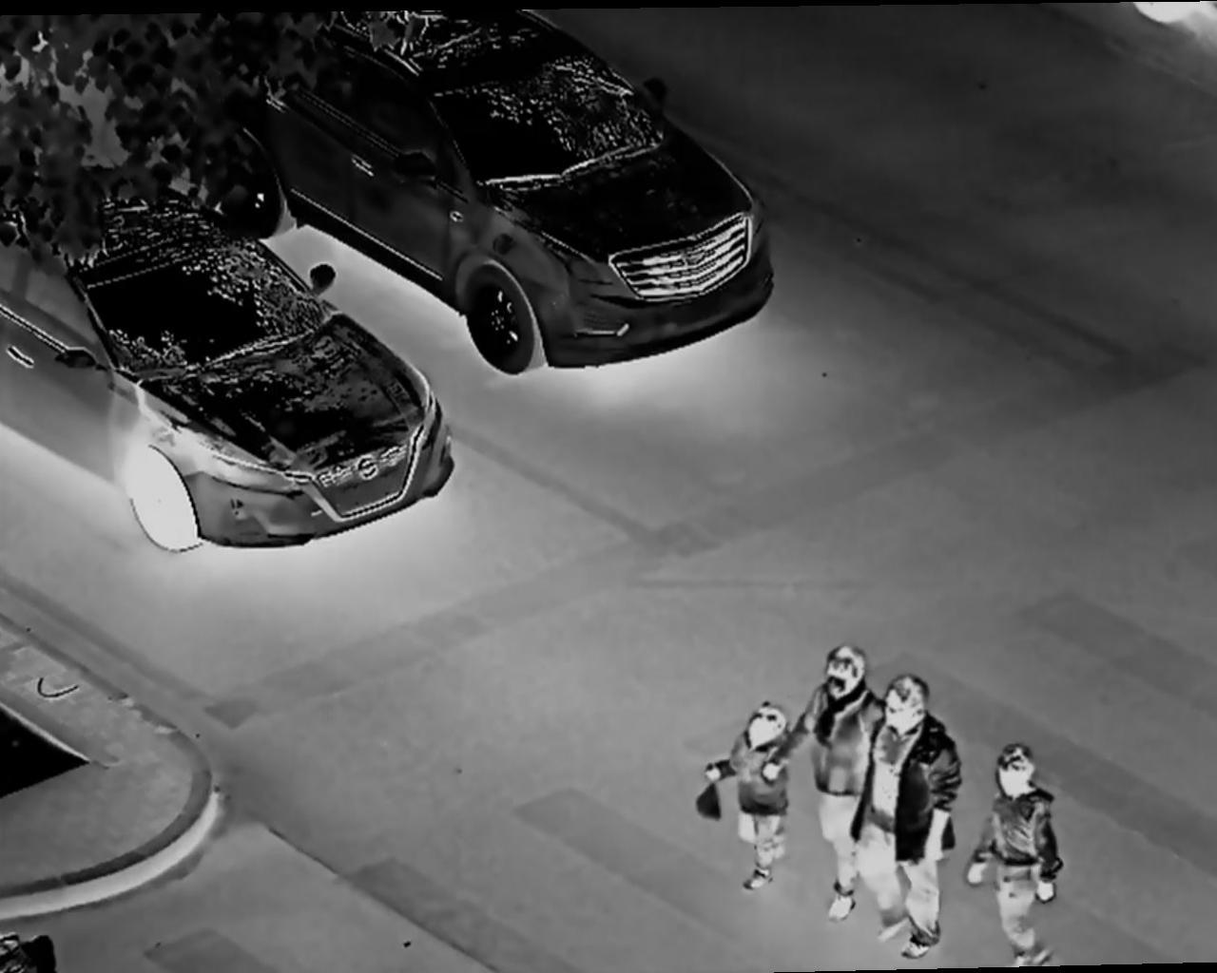person: (858, 670, 975, 957), (976, 744, 1087, 963), (700, 699, 808, 906), (808, 636, 876, 916)
